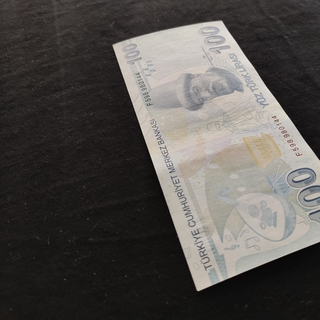100TLBack: (112, 19, 320, 291)
